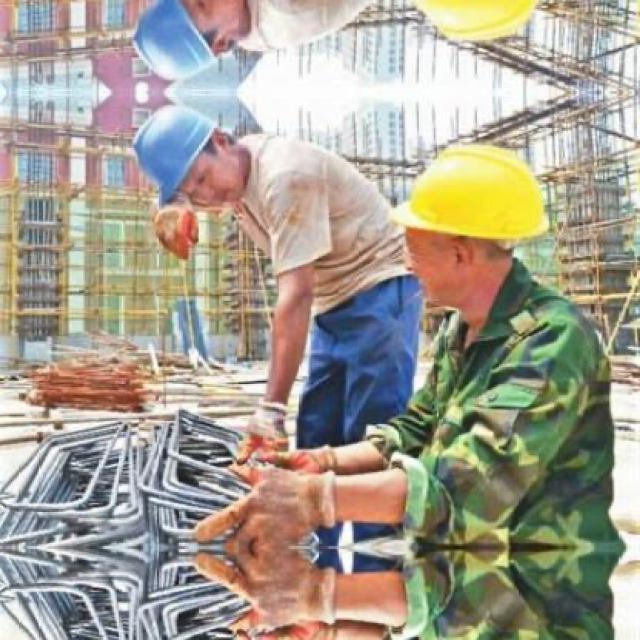helmet: (389, 130, 566, 308), (123, 99, 249, 216), (122, 0, 249, 88), (389, 0, 568, 57)
